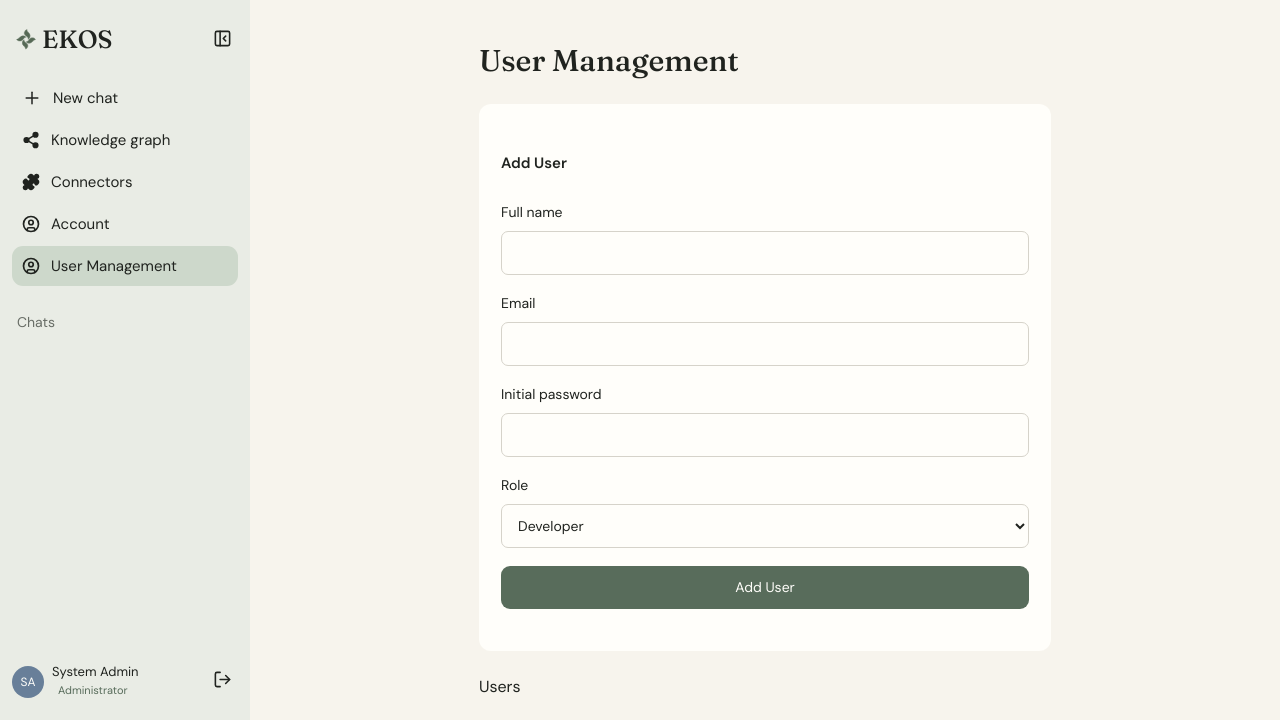
it: admin user management › creates a Developer with JWT and changes role/status through existing API client
Expected: the link "User Management" is shown, x1=12 y1=246 x2=238 y2=286
Expected: the dropdown labelled "Role" shows "Developer", x1=501 y1=504 x2=1029 y2=548
Type "New Developer" into the field labelled "Full name" at (765, 253), box x1=501 y1=231 x2=1029 y2=275
Type "employee@example.test" into the field labelled "Email" at (765, 344), box x1=501 y1=322 x2=1029 y2=366
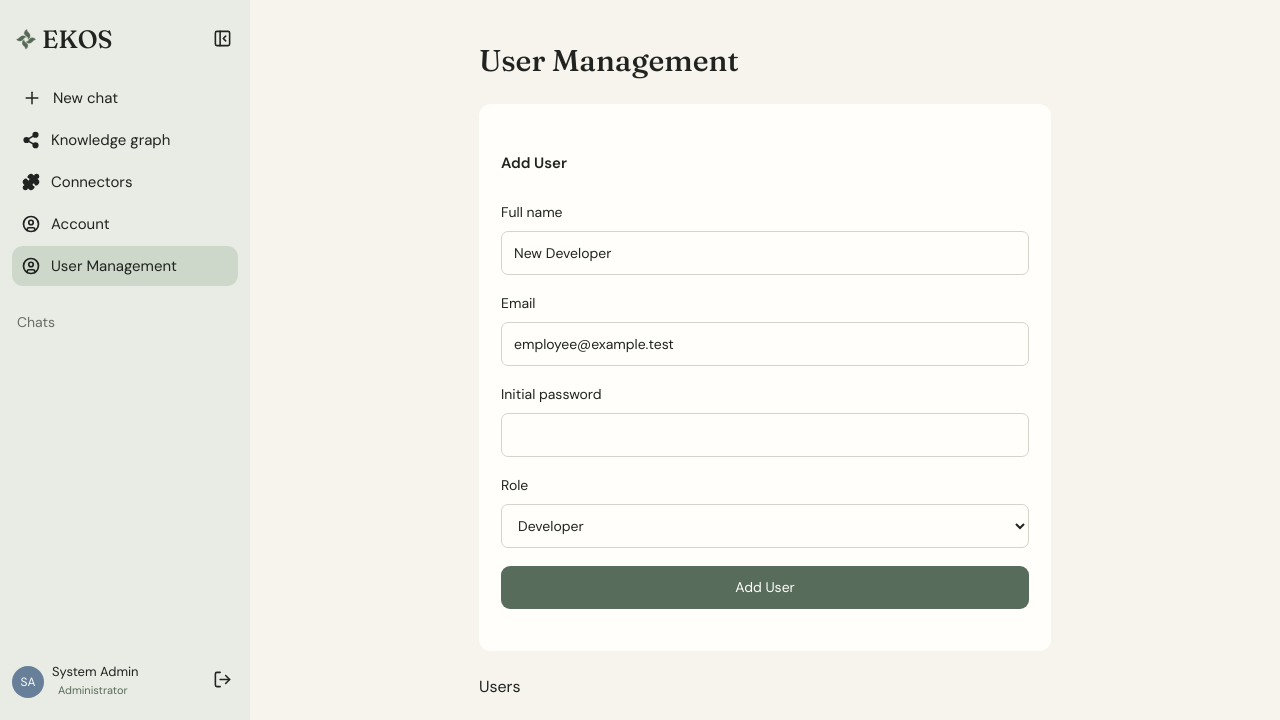
Type "password123" into the password field labelled "Initial password" at (765, 435), box x1=501 y1=413 x2=1029 y2=457
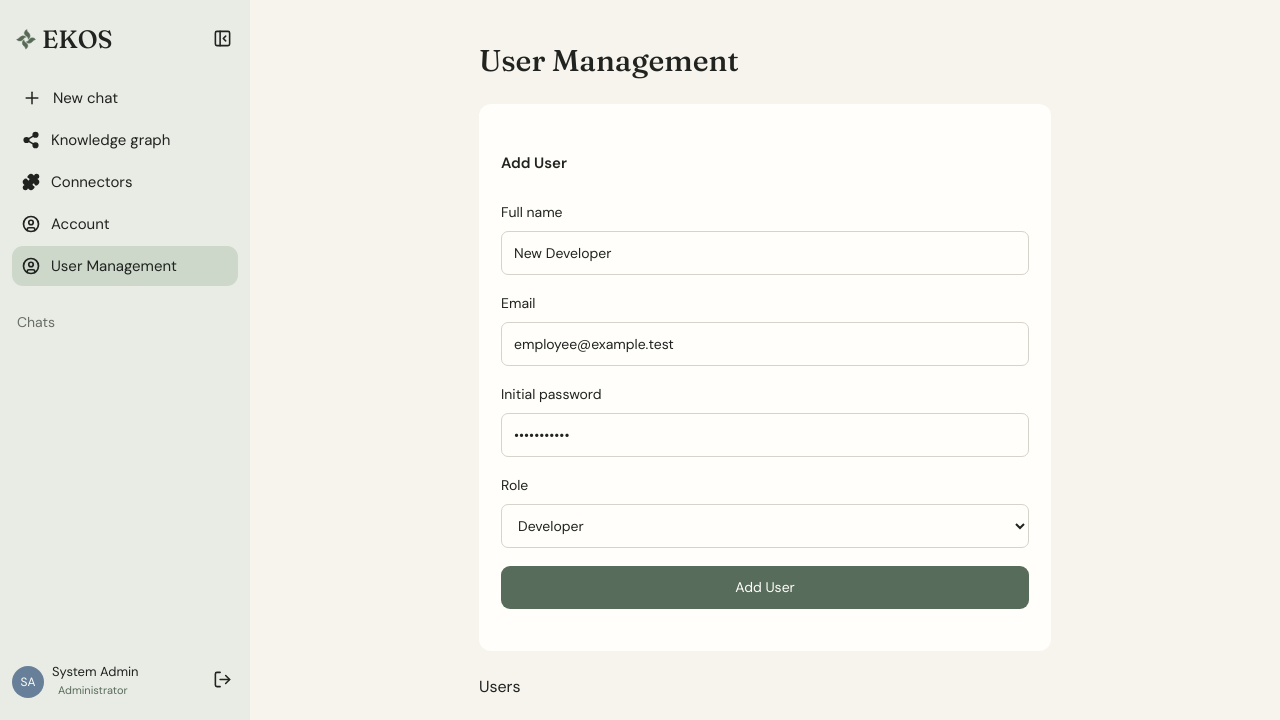
Click the button "Add User" at (765, 588), box x1=501 y1=566 x2=1029 y2=609
(page scrolled)
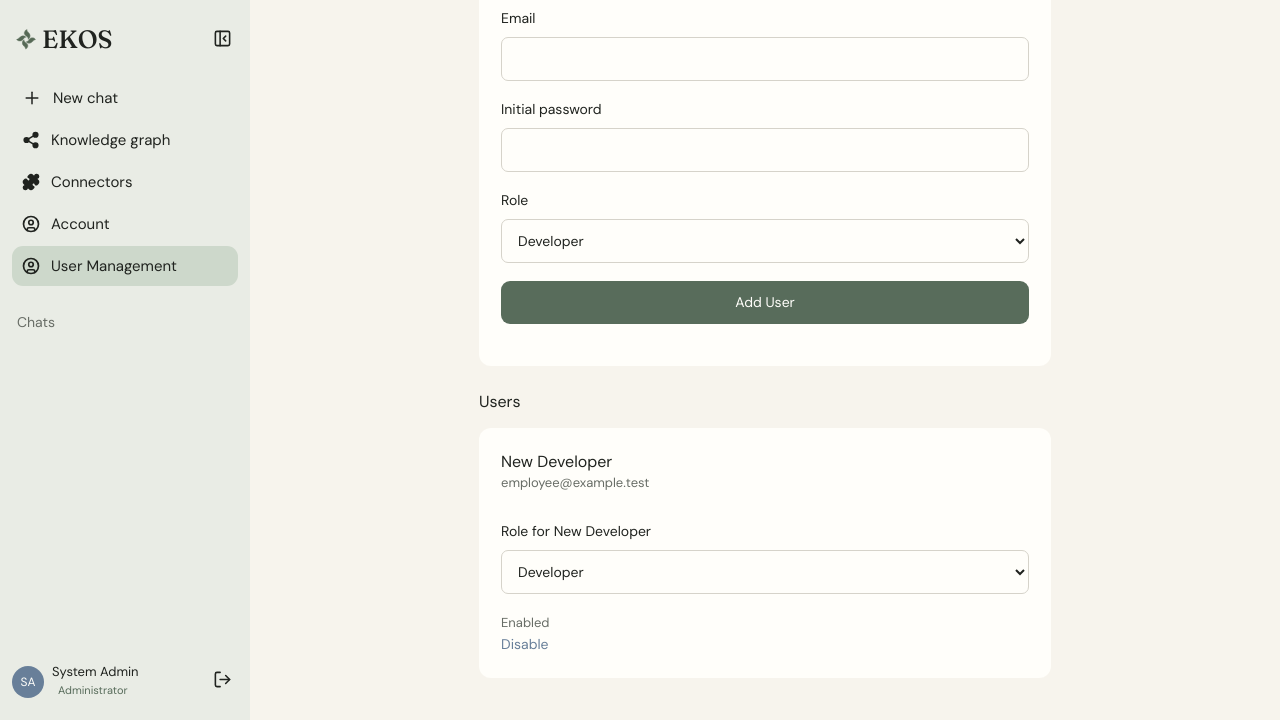
Now the password field labelled "Initial password" is empty, box x1=501 y1=128 x2=1029 y2=172
Select "Manager" in the dropdown labelled "Role for New Developer" at (765, 572), box x1=501 y1=550 x2=1029 y2=594
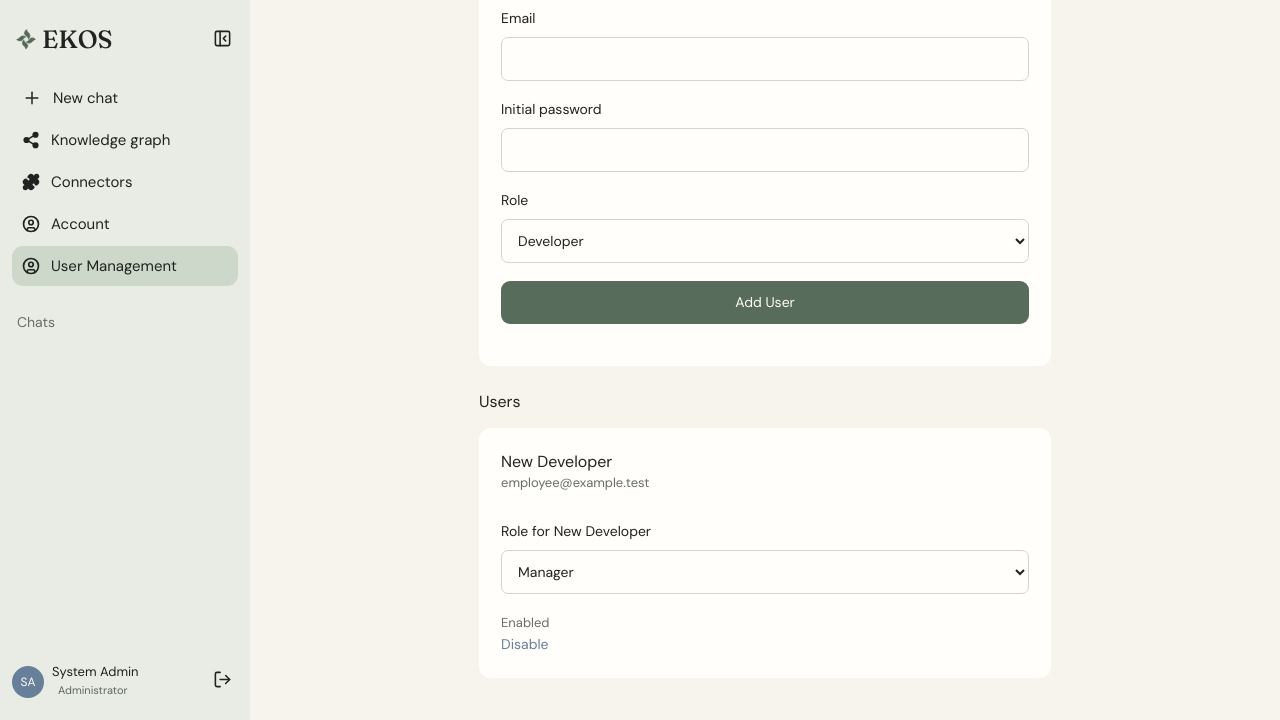
Click the button "Disable" at (525, 645), box x1=501 y1=634 x2=548 y2=656
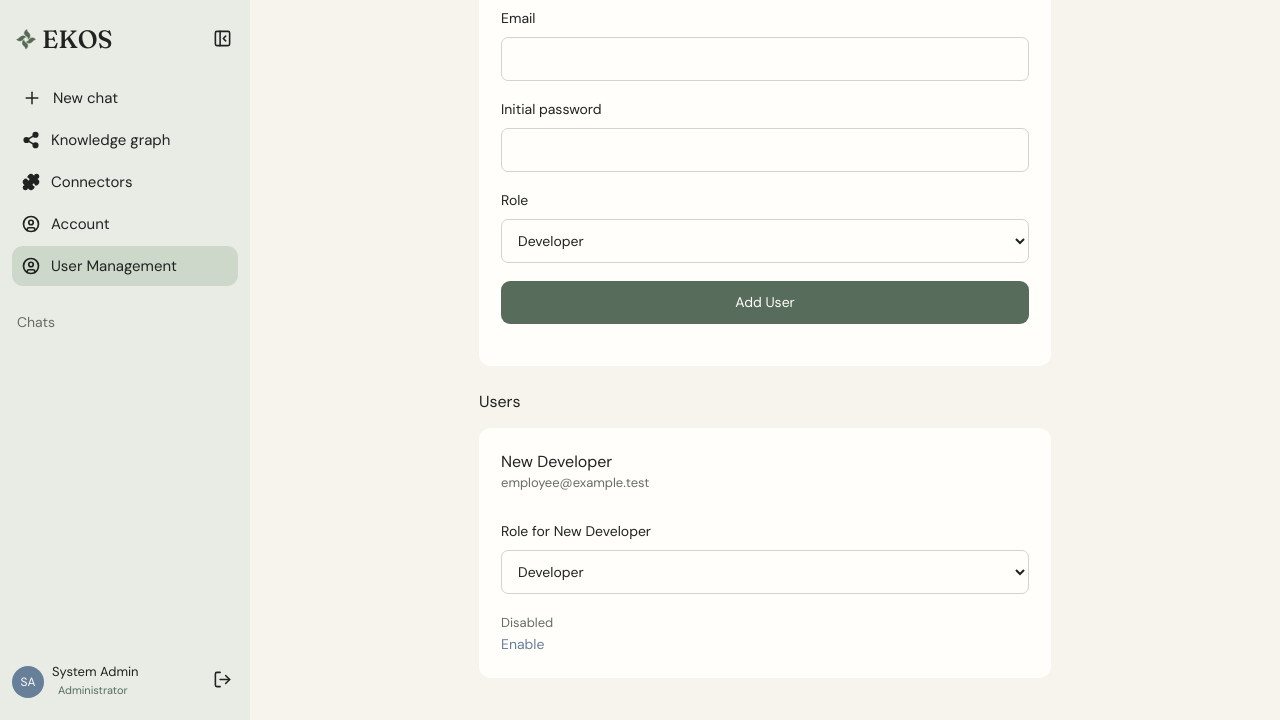
Now the text "Disabled" is shown, box x1=501 y1=614 x2=553 y2=631
Click the button "Enable" at (523, 645), box x1=501 y1=634 x2=544 y2=656
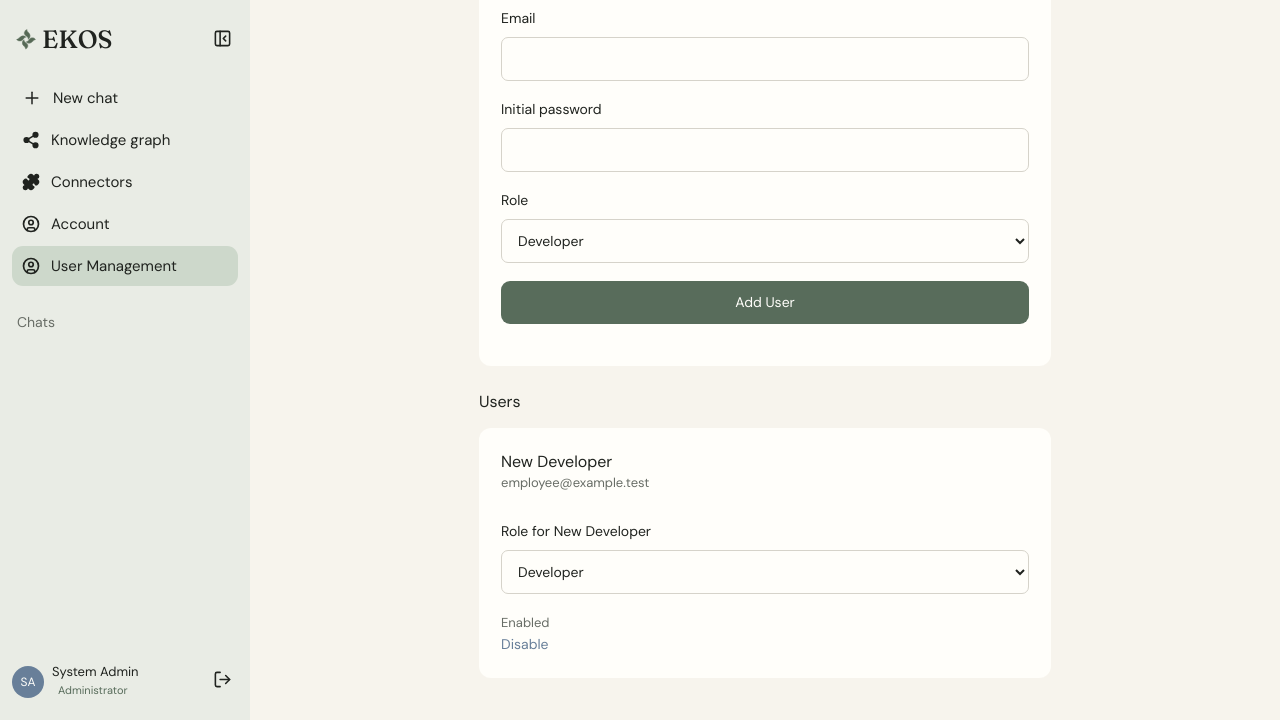
Now the text "Enabled" is shown, box x1=501 y1=614 x2=550 y2=631
